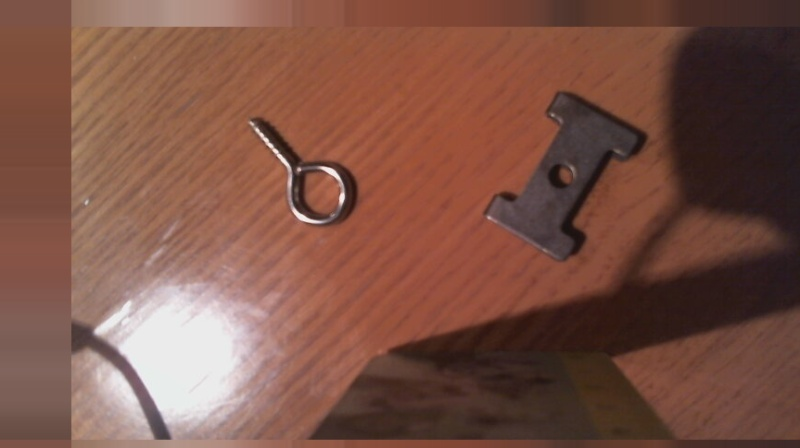O001: (245, 110, 354, 229)
O002: (481, 88, 644, 262)
